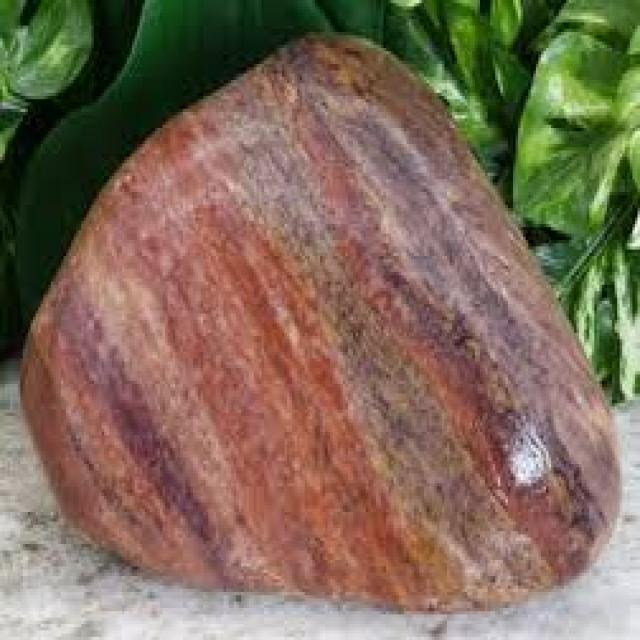Metamorphic: (23, 32, 630, 608)
